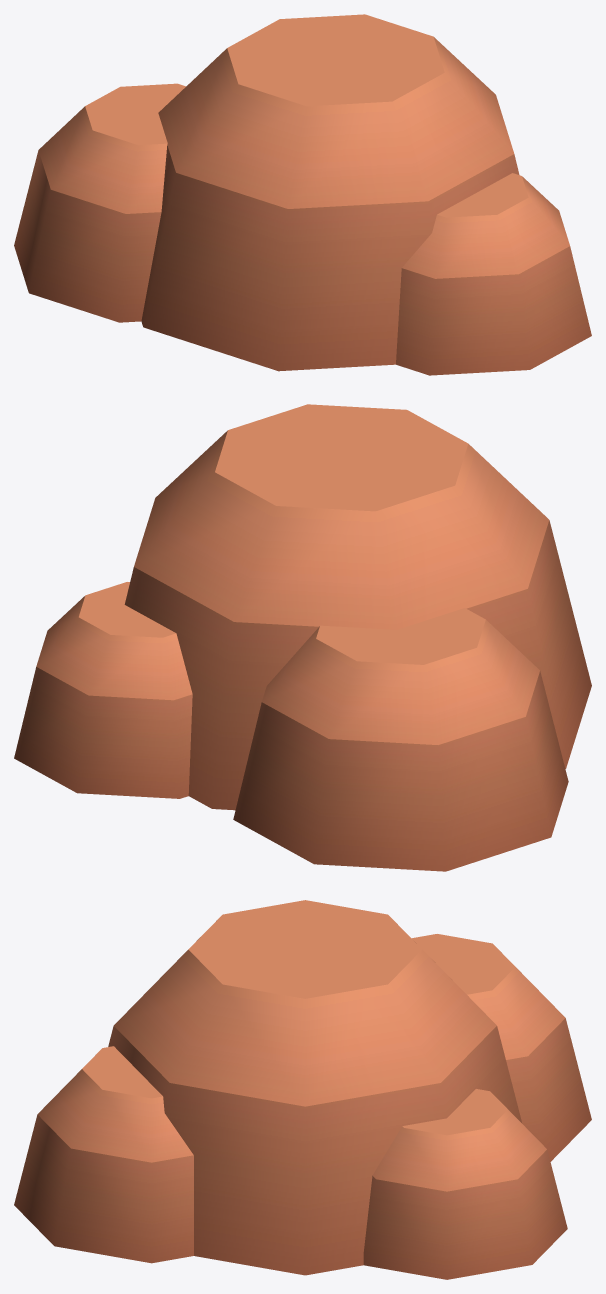
File: cargo-pile-a.glb
The picture shows the model from 3 angles, top to bottom: view 1: azimuth 30°, elevation 25°; view 2: azimuth 150°, elevation 25°; view 3: azimuth 270°, elevation 25°; orthographic projection. The views are drawn at different scales.
Parts seen in each view (by area): view 1: cargo-pile-a; view 2: cargo-pile-a; view 3: cargo-pile-a.
Part boxes in pixels (x1,y1,x2,y2): cargo-pile-a: (14, 14, 591, 375); cargo-pile-a: (14, 404, 591, 871); cargo-pile-a: (14, 900, 591, 1279).
Bounding box in the file's own units: 2.54 × 1.2 × 2.75.
1 material, 1 textured.
